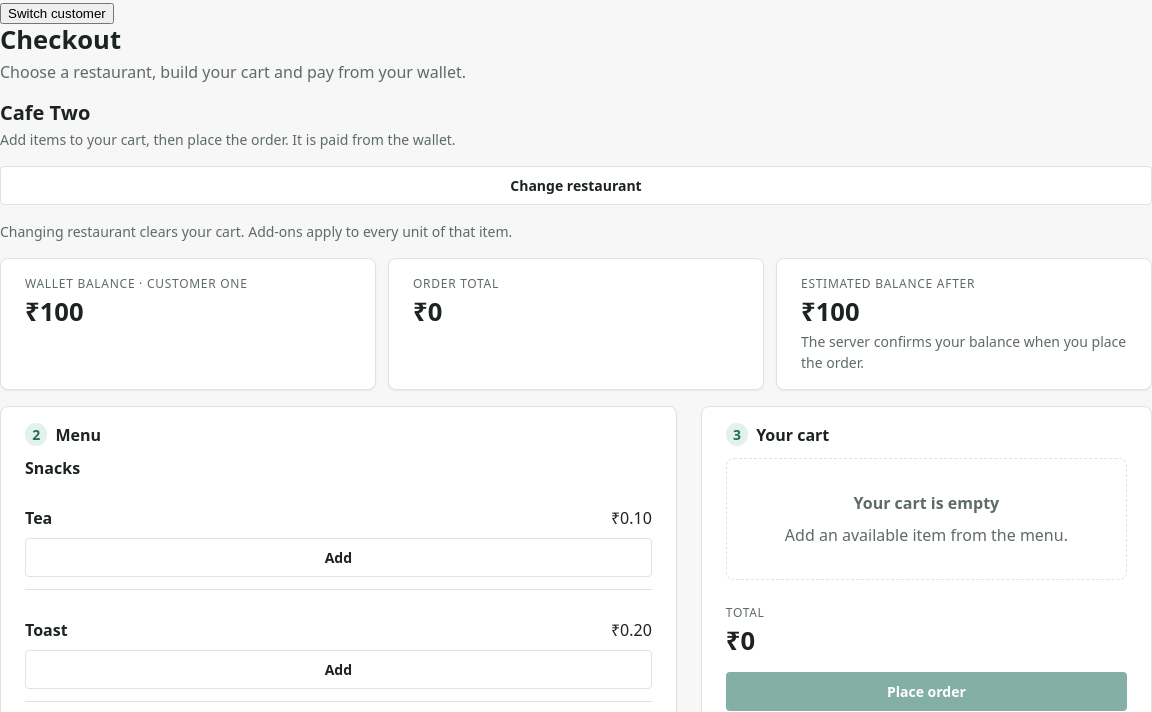
Test case: Checkout › opens the menu straight away from a link with a restaurant, and can go back to the list
The width and height of the screenshot is (1152, 712).
expect the heading "Cafe Two" is shown: met, box [0,99,90,126]
What coordinates should you click on to do the following:
click the button with aria-label "Add Tea"
I would click on:
 (338, 557)
Its box is [25,538,652,577].
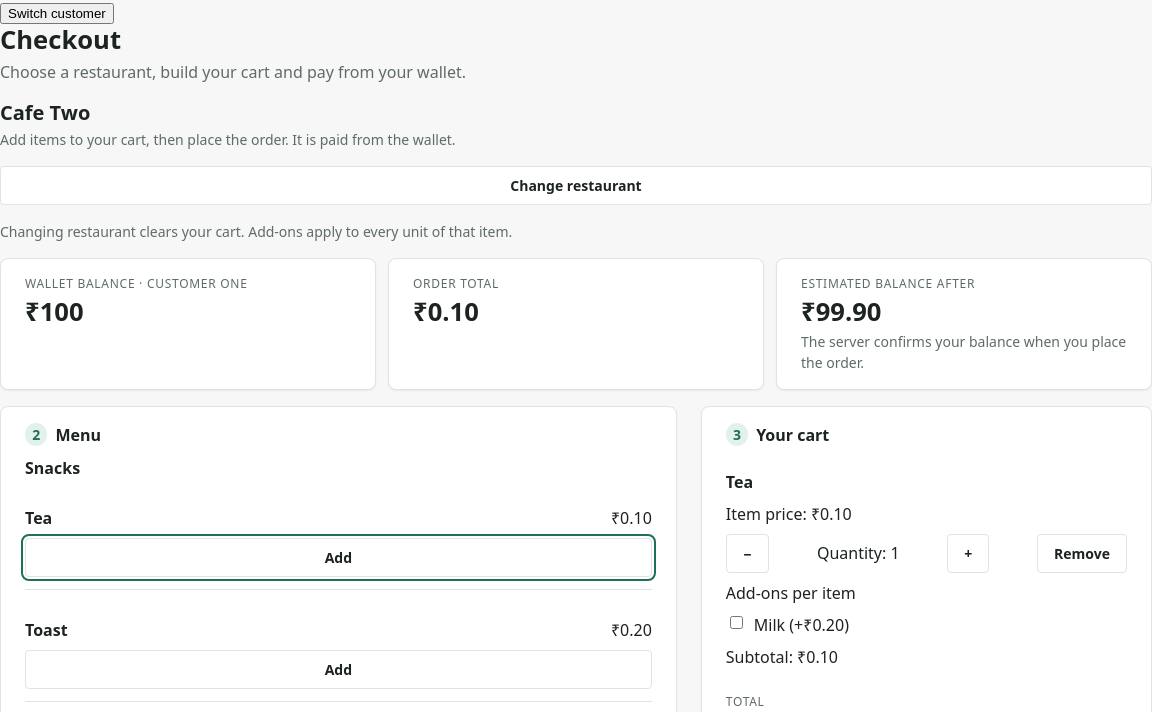
What coordinates should you click on to do the following:
click the button "Change restaurant"
I would click on:
 (576, 186)
Its box is [0,166,1151,205].
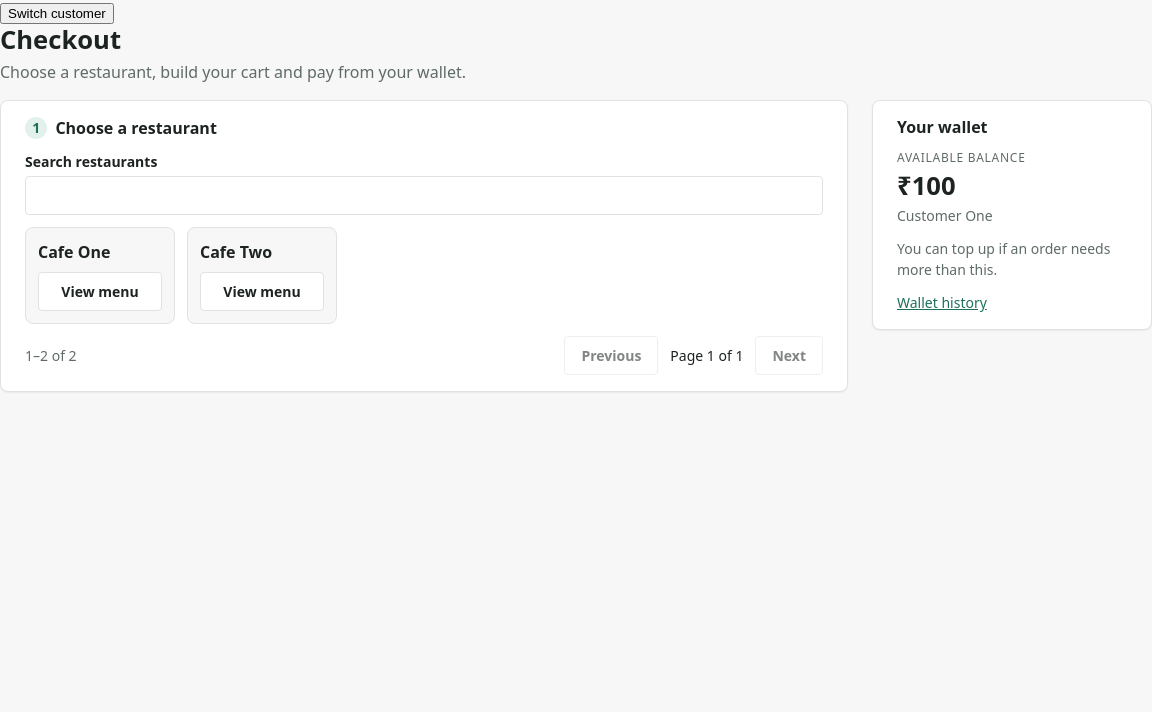
expect the button with aria-label "Choose Cafe One" is shown: met, box [38,272,162,311]
